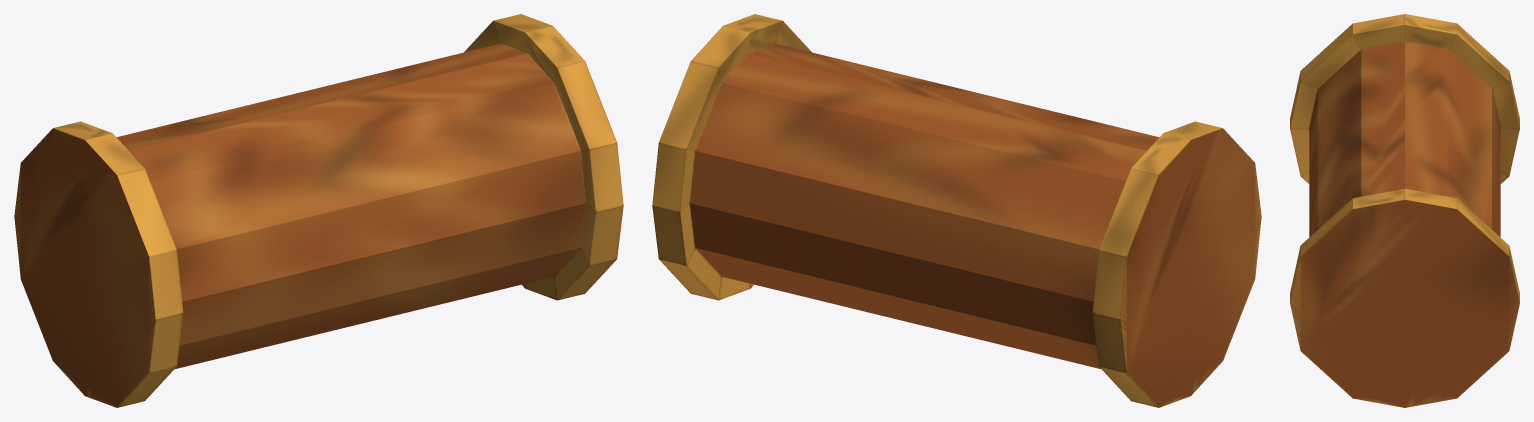
The model's file is pipe1.obj.
The picture shows the model from 3 angles, left to right: view 1: azimuth 30°, elevation 25°; view 2: azimuth 150°, elevation 25°; view 3: azimuth 270°, elevation 25°; orthographic projection. The views are drawn at different scales.
Visible parts, largest first — view 1: 立方体; view 2: 立方体; view 3: 立方体.
Boxes of the visible parts, left/top/right/bottom form: 立方体: left=14, top=14, right=623, bottom=407; 立方体: left=652, top=14, right=1261, bottom=407; 立方体: left=1290, top=14, right=1519, bottom=407.
Size of the model in its own units: 2.02 by 1.06 by 1.06.
